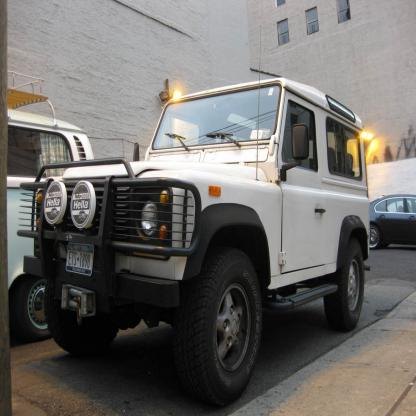Car: (18, 27, 371, 405), (8, 76, 97, 344), (370, 196, 416, 251)
